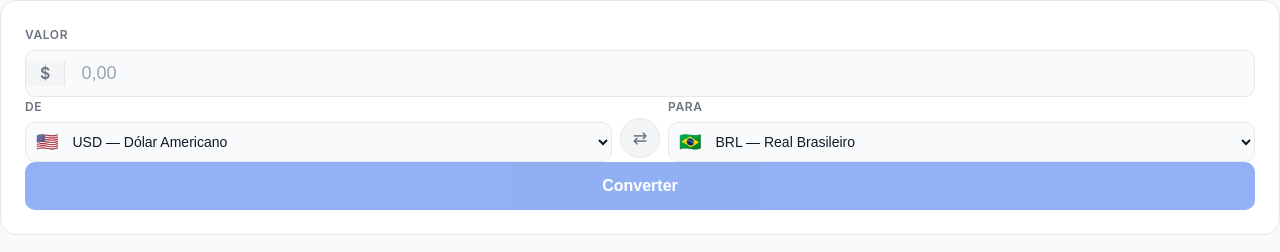
it: Conversor › estado de loading › exibe spinner enquanto a requisição está em andamento
This screenshot has width=1280, height=252.
Type "100" into the field with placeholder "0,00" at (660, 74), box [65,51,1254,96]
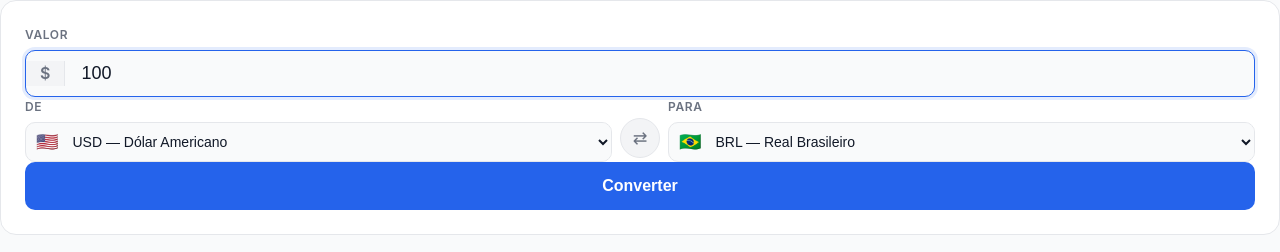
Click the button "Converter" at (640, 186), box [25,162,1255,210]
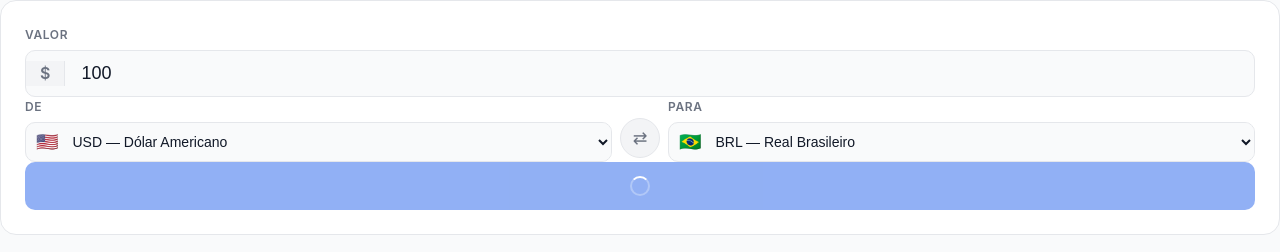
Expected: the button named "carregando" is disabled, [25,162,1255,210]
